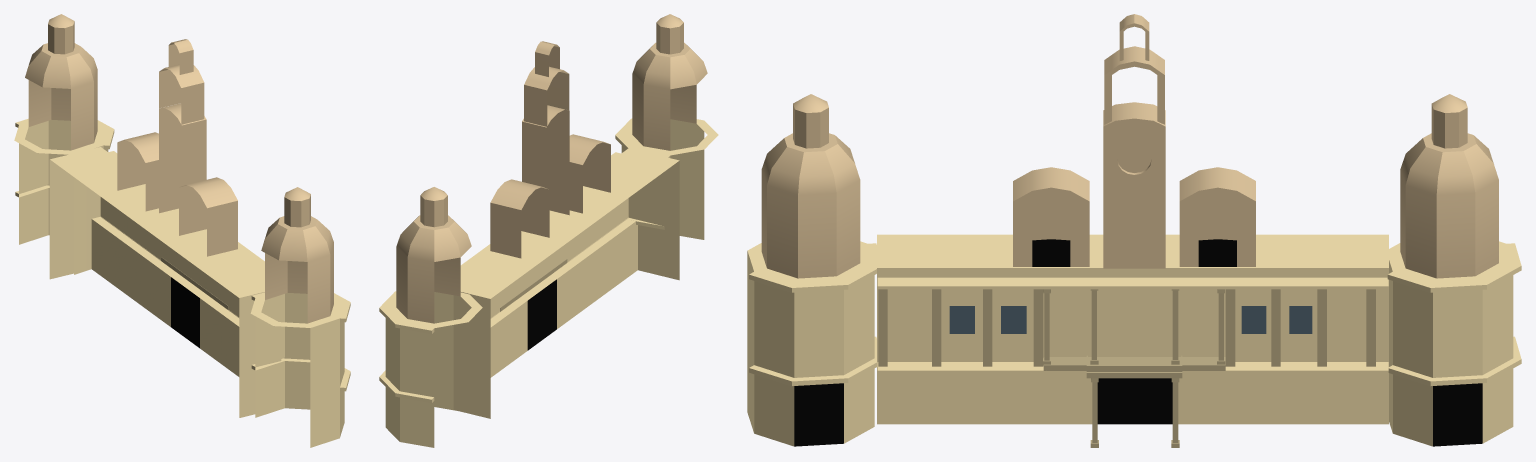
Rendered from ayto (2).fbx.
3 renders of one model, left to right at view 1: azimuth 30°, elevation 25°; view 2: azimuth 150°, elevation 25°; view 3: azimuth 270°, elevation 25°, orthographic. The views are drawn at different scales.
Visible parts, largest first — view 1: Cube.024, Cylinder.001, Cylinder.004, Cylinder.005, Cylinder, Cube.021, Cube.020, Cube.019, Cube.022, Cube.026, Cube.023; view 2: Cube.024, Cylinder, Cylinder.005, Cylinder.004, Cylinder.001, Cube.021, Cube.019, Cube.020, Cube.022, Cube.026, Cube.023; view 3: Cube.024, Cylinder.001, Cylinder, Cylinder.005, Cylinder.004, Cube.021, Cube.006, Cube.020, Cube.019, Cube.014, Cube.026, Cylinder.003 (+13 smaller).
Boxes of the visible parts, x1=… form: Cube.024: x1=49, y1=147, x2=281, y2=417; Cylinder.001: x1=250, y1=292, x2=350, y2=447; Cylinder.004: x1=25, y1=14, x2=97, y2=150; Cylinder.005: x1=261, y1=187, x2=333, y2=323; Cylinder: x1=14, y1=118, x2=114, y2=274; Cube.021: x1=159, y1=103, x2=206, y2=213; Cube.020: x1=179, y1=177, x2=237, y2=256; Cube.019: x1=117, y1=132, x2=158, y2=211; Cube.022: x1=159, y1=64, x2=204, y2=124; Cube.026: x1=171, y1=277, x2=199, y2=348; Cube.023: x1=168, y1=39, x2=193, y2=74; Cube.024: x1=453, y1=148, x2=679, y2=418; Cylinder: x1=379, y1=291, x2=482, y2=447; Cylinder.005: x1=632, y1=14, x2=707, y2=150; Cylinder.004: x1=396, y1=187, x2=471, y2=323; Cylinder.001: x1=615, y1=118, x2=718, y2=239; Cube.021: x1=522, y1=105, x2=569, y2=215; Cube.019: x1=490, y1=179, x2=549, y2=258; Cube.020: x1=569, y1=134, x2=610, y2=213; Cube.022: x1=524, y1=66, x2=569, y2=126; Cube.026: x1=527, y1=279, x2=556, y2=350; Cube.023: x1=535, y1=41, x2=559, y2=76; Cube.024: x1=877, y1=234, x2=1388, y2=424; Cylinder.001: x1=747, y1=241, x2=877, y2=446; Cylinder: x1=1387, y1=241, x2=1521, y2=446; Cylinder.005: x1=761, y1=94, x2=860, y2=278; Cylinder.004: x1=1400, y1=94, x2=1498, y2=278; Cube.021: x1=1103, y1=102, x2=1165, y2=268; Cube.006: x1=877, y1=277, x2=1388, y2=289; Cube.020: x1=1013, y1=167, x2=1089, y2=266; Cube.019: x1=1179, y1=167, x2=1255, y2=266; Cube.014: x1=877, y1=362, x2=1388, y2=373; Cube.026: x1=1097, y1=378, x2=1172, y2=424; Cylinder.003: x1=794, y1=383, x2=843, y2=446.
Bounding box in the file's own units: 1221 × 4023 × 6980.
